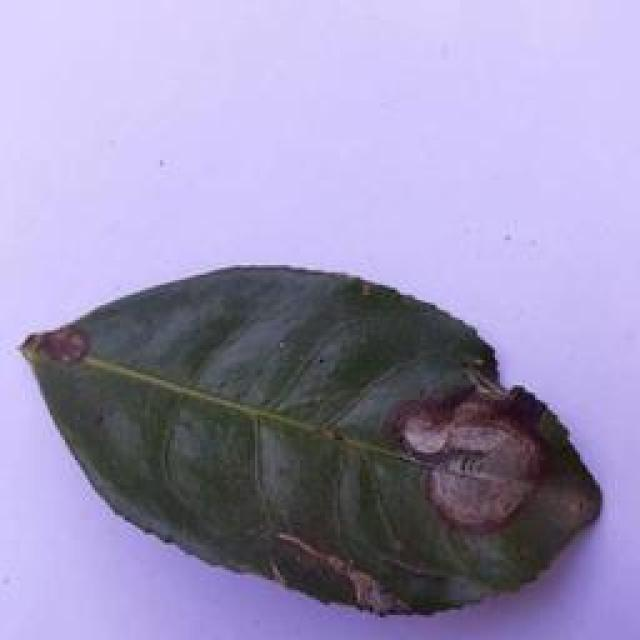Gray Blight: (21, 261, 602, 613)
